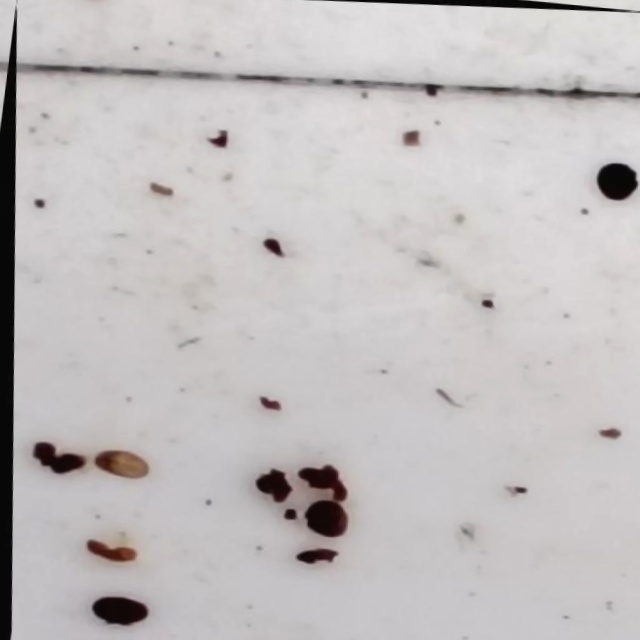varroa: (79, 588, 142, 629), (293, 497, 345, 537)
